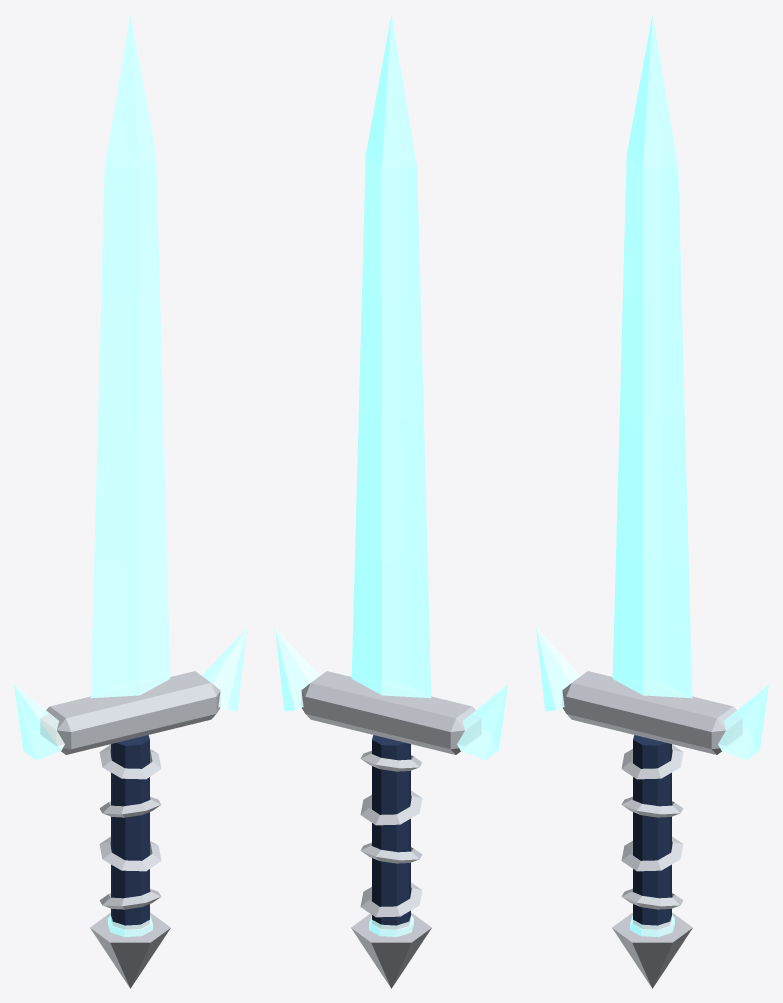
The model's file is gear_sword_crystal_v01.glb.
3 views of the same model, side by side, from view 1: azimuth 30°, elevation 25°; view 2: azimuth 150°, elevation 25°; view 3: azimuth 330°, elevation 25° (orthographic).
Visible parts, largest first — view 1: sword_crystal; view 2: sword_crystal; view 3: sword_crystal.
Part boxes in pixels (box(x1,y1,x2,y2)): sword_crystal: box(14, 14, 246, 988); sword_crystal: box(275, 14, 507, 988); sword_crystal: box(536, 14, 768, 988).
Size of the model in its own units: 0.1988 by 0.795 by 0.06.
